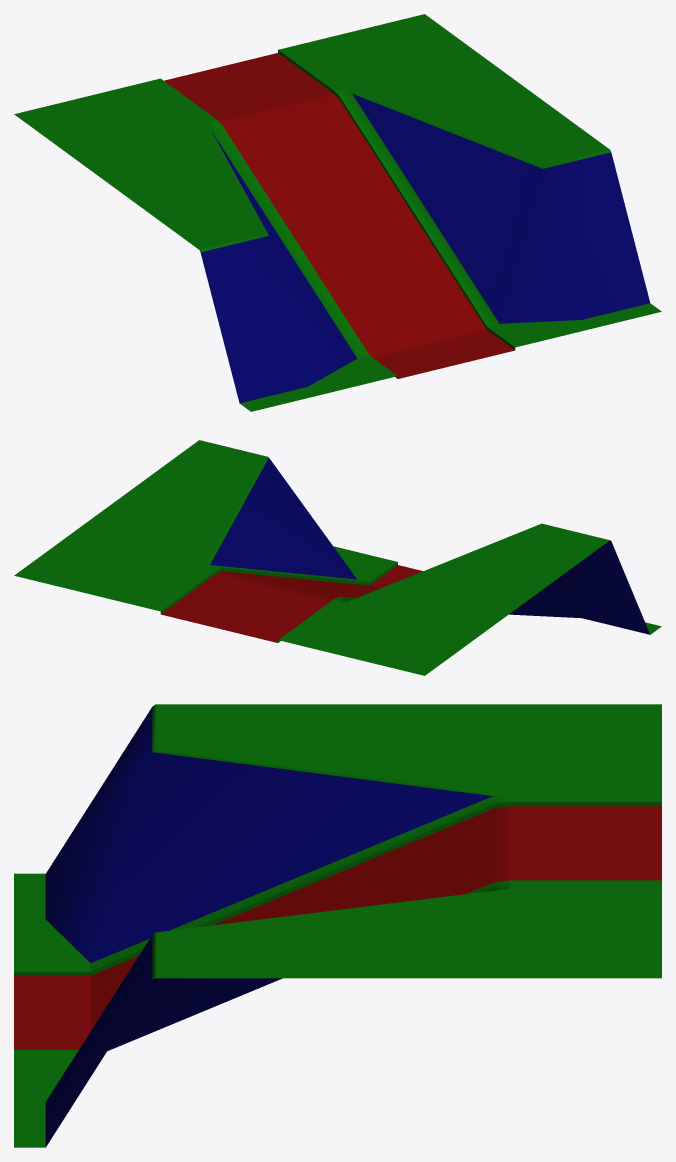
Rendered from RoadCliff.fbx.
3 renders of one model, top to bottom at view 1: azimuth 30°, elevation 25°; view 2: azimuth 150°, elevation 25°; view 3: azimuth 270°, elevation 25°, orthographic. The views are drawn at different scales.
Parts seen in each view (by area): view 1: Cliff1; view 2: Cliff1; view 3: Cliff1.
Part boxes in pixels (x1,y1,x2,y2): Cliff1: [14, 14, 661, 411]; Cliff1: [14, 440, 661, 675]; Cliff1: [14, 704, 661, 1147].
Bounding box in the file's own units: 7 × 2.07 × 7.
